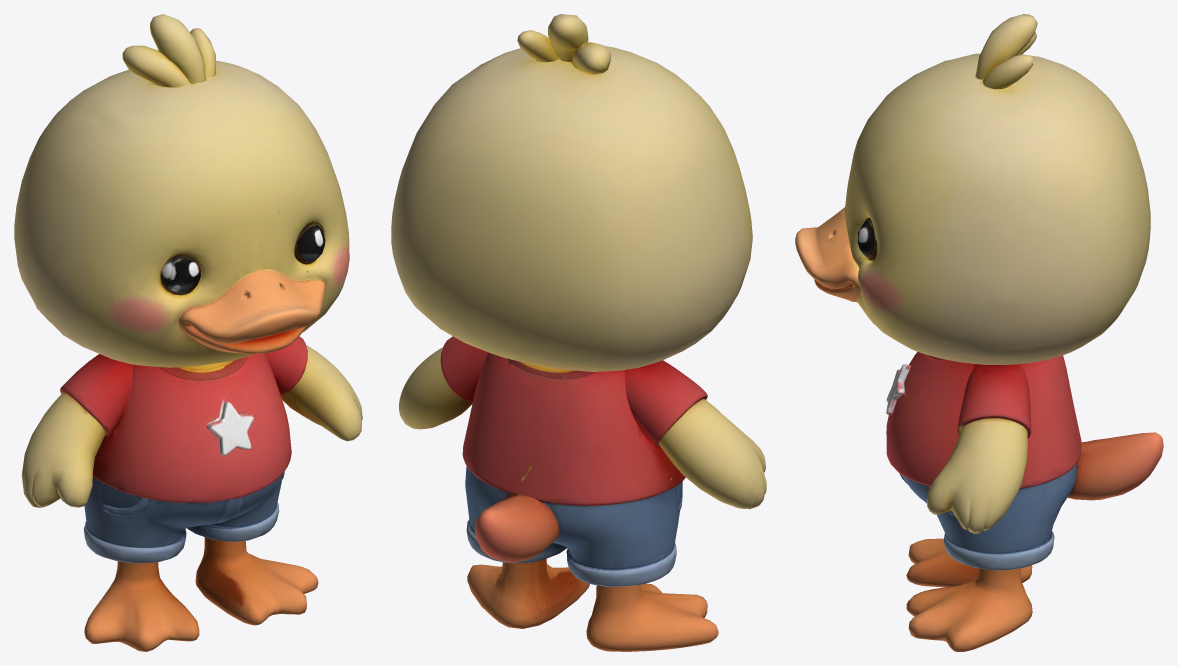
File: npc_anh_ti.glb
The picture shows the model from 3 angles, left to right: view 1: azimuth 30°, elevation 25°; view 2: azimuth 150°, elevation 25°; view 3: azimuth 270°, elevation 25°; orthographic projection. The views are drawn at different scales.
Visible parts, largest first — view 1: node_0; view 2: node_0; view 3: node_0.
Part boxes in pixels (x1,y1,x2,y2): node_0: [14, 14, 362, 651]; node_0: [391, 14, 766, 651]; node_0: [795, 14, 1163, 651].
Size of the model in its own units: 0.6731 by 1.12 by 0.6433.
1 material, 1 textured.
